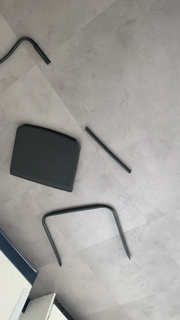C pipe: (42, 201, 137, 271)
Seat: (8, 122, 83, 195)
i pipe: (83, 124, 134, 177)
